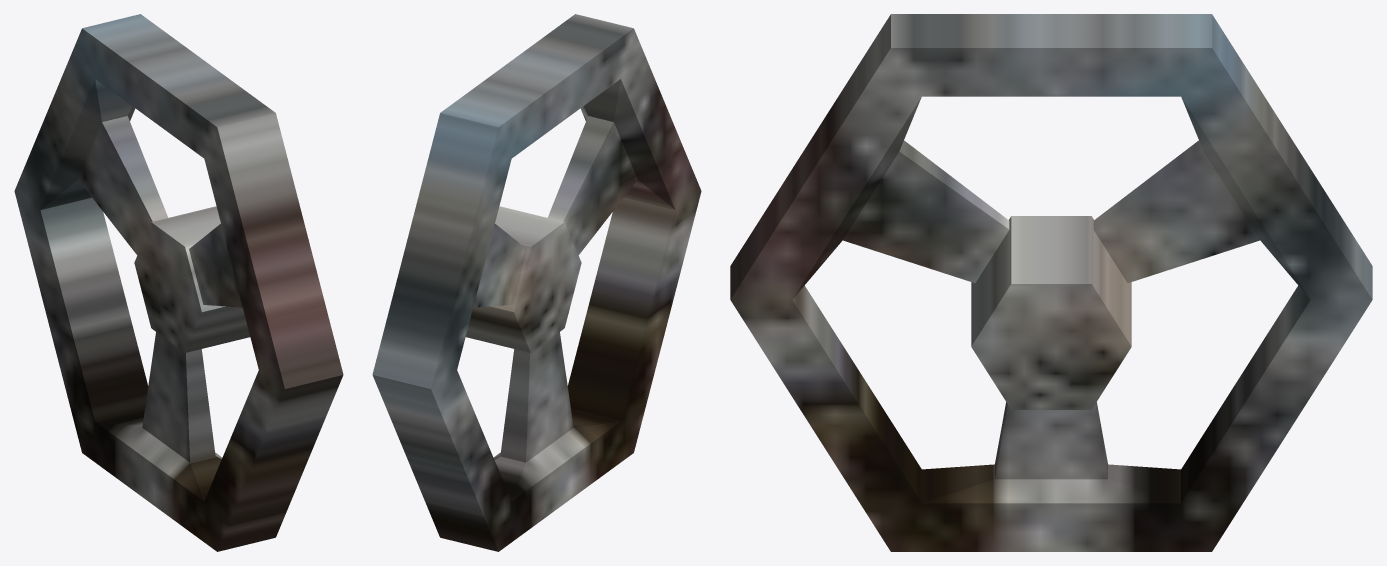
The model's file is door_handle_1.fbx.
The picture shows the model from 3 angles, left to right: view 1: azimuth 30°, elevation 25°; view 2: azimuth 150°, elevation 25°; view 3: azimuth 270°, elevation 25°; orthographic projection. The views are drawn at different scales.
Visible parts, largest first — view 1: Cylinder; view 2: Cylinder; view 3: Cylinder.
Boxes of the visible parts, x1=… form: Cylinder: x1=14, y1=14, x2=343, y2=551; Cylinder: x1=372, y1=14, x2=701, y2=551; Cylinder: x1=730, y1=14, x2=1372, y2=551.
Size of the model in its own units: 11.57 by 34.64 by 40.
